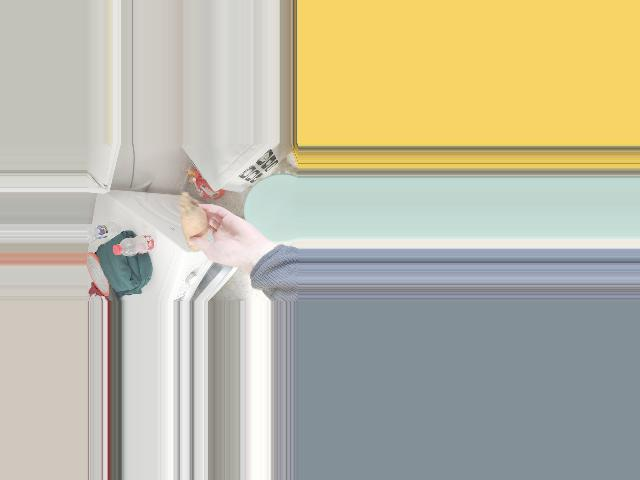sweet_potato: (180, 203, 205, 248)
